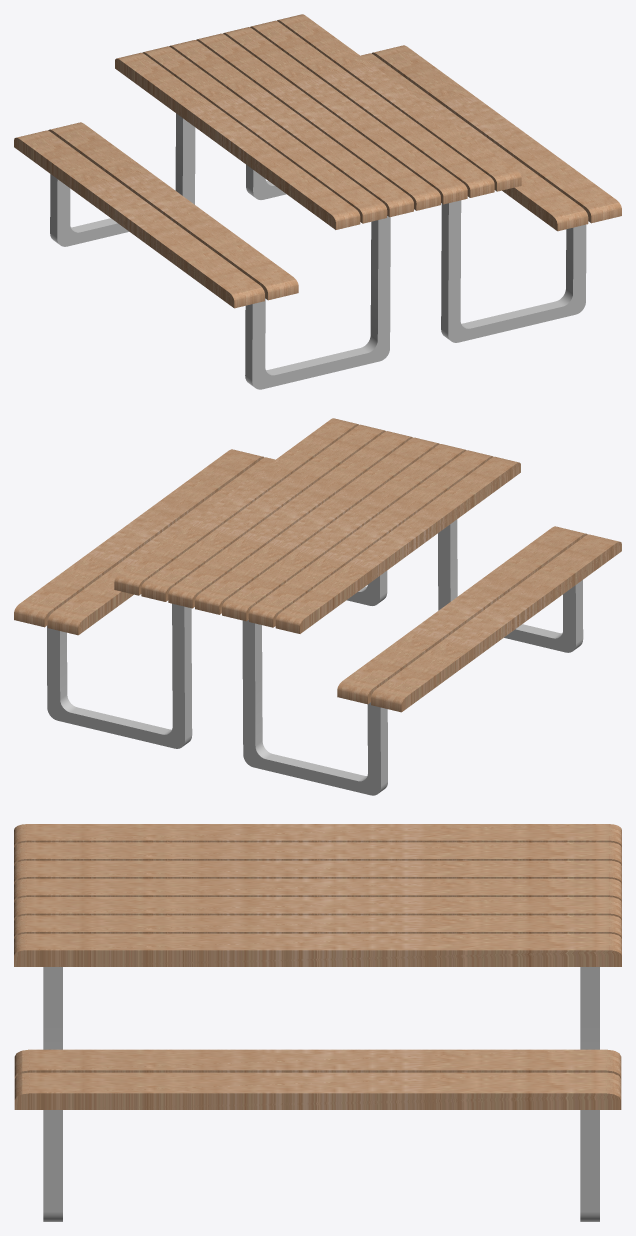
The model's file is mesa.obj.
The picture shows the model from 3 angles, top to bottom: view 1: azimuth 30°, elevation 25°; view 2: azimuth 150°, elevation 25°; view 3: azimuth 270°, elevation 25°; orthographic projection. The views are drawn at different scales.
Parts seen in each view (by area): view 1: wood_1_Plane, metal_stand_Cube.012, wood3_Mesh, wood2_Plane.001; view 2: wood_1_Plane, metal_stand_Cube.012, wood3_Mesh, wood2_Plane.001; view 3: wood_1_Plane, wood2_Plane.001, metal_stand_Cube.012.
Part boxes in pixels (<box>): wood_1_Plane: <box>115,14,521,229</box>; metal_stand_Cube.012: <box>50,113,586,389</box>; wood3_Mesh: <box>14,122,298,308</box>; wood2_Plane.001: <box>361,45,621,231</box>; wood_1_Plane: <box>114,418,520,633</box>; metal_stand_Cube.012: <box>47,519,583,795</box>; wood3_Mesh: <box>337,526,621,712</box>; wood2_Plane.001: <box>14,449,274,635</box>; wood_1_Plane: <box>14,824,621,966</box>; wood2_Plane.001: <box>14,1049,621,1109</box>; metal_stand_Cube.012: <box>43,967,599,1221</box>.
Bounding box in the file's own units: 4 × 1.63 × 3.94.
2 materials, 1 textured.
